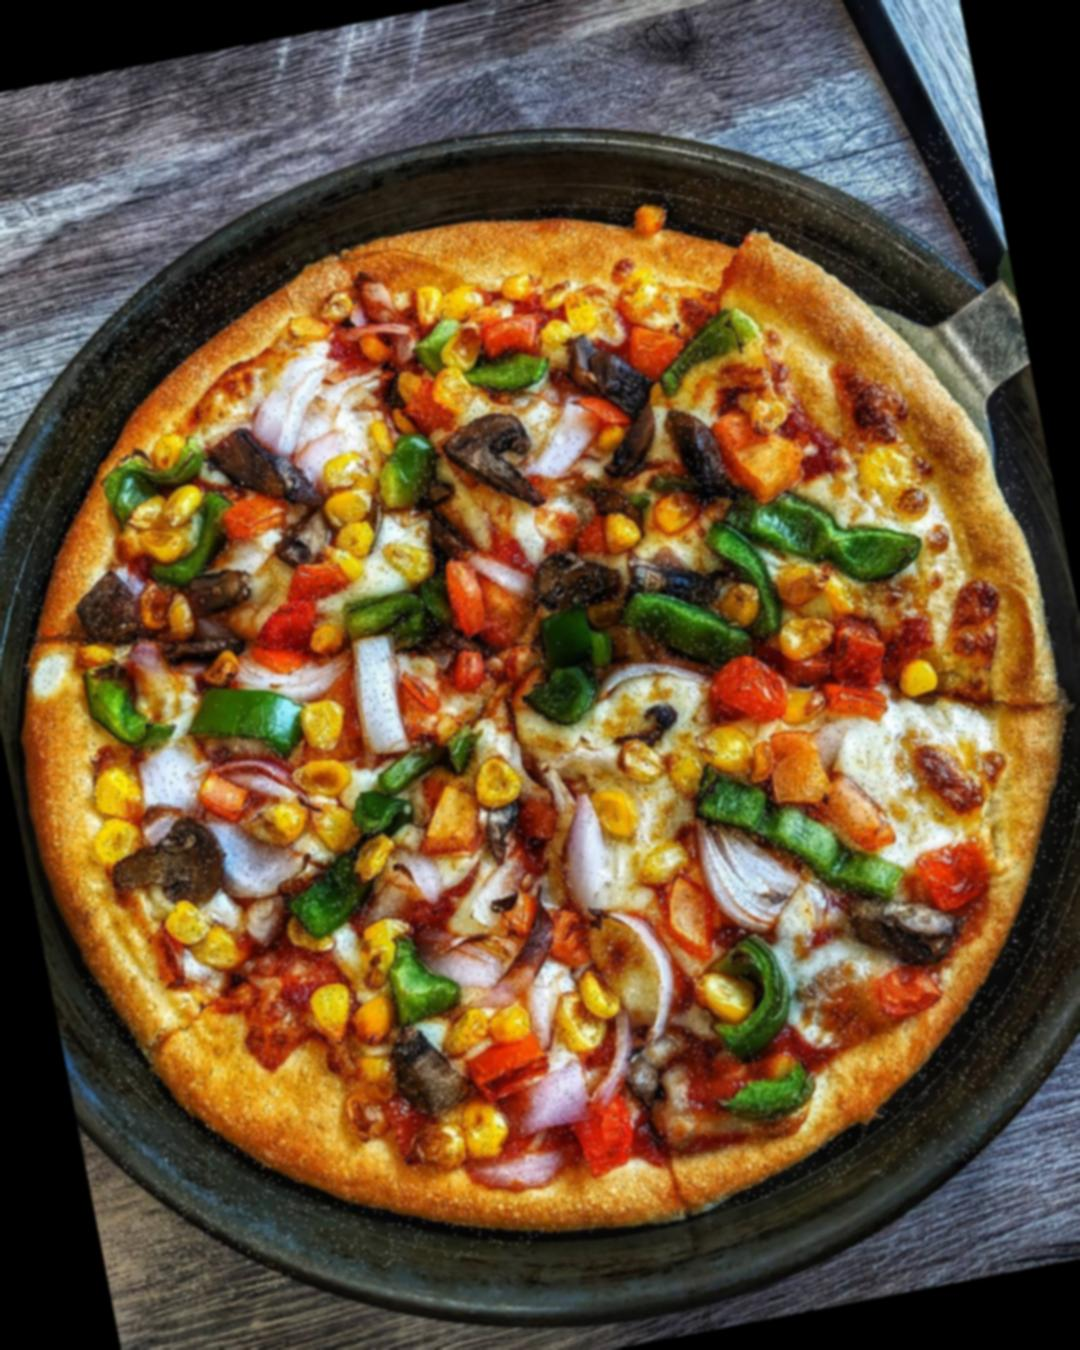Corn: (543, 964, 629, 1057), (769, 554, 849, 618), (442, 1001, 528, 1055), (291, 689, 354, 758), (456, 1094, 522, 1156), (132, 580, 190, 642), (190, 641, 256, 693), (590, 785, 647, 842), (471, 754, 527, 812), (126, 490, 204, 532), (292, 749, 352, 802), (612, 730, 667, 785), (694, 723, 754, 774), (91, 766, 141, 827), (303, 979, 355, 1035), (648, 744, 705, 795), (123, 517, 195, 557), (648, 482, 696, 539), (741, 384, 798, 432), (774, 671, 834, 716), (251, 799, 309, 844), (696, 968, 747, 1018), (347, 828, 398, 878), (778, 622, 838, 665), (315, 486, 382, 523), (356, 917, 407, 966), (855, 450, 910, 495), (415, 1120, 465, 1165), (190, 926, 242, 968), (435, 280, 486, 323), (158, 896, 202, 944), (592, 509, 642, 551), (312, 797, 358, 842), (432, 366, 479, 410), (321, 451, 367, 495), (896, 660, 942, 704), (631, 193, 673, 241), (532, 495, 576, 539), (712, 576, 758, 618), (636, 842, 685, 879), (91, 821, 136, 863), (563, 287, 600, 334), (355, 993, 396, 1034), (339, 520, 374, 554), (73, 642, 116, 668), (540, 324, 575, 349)
Mushroom: (444, 406, 573, 528), (100, 821, 242, 929), (851, 876, 966, 980), (566, 339, 658, 468), (165, 561, 263, 676), (654, 398, 744, 501), (382, 1022, 475, 1110), (53, 561, 139, 648), (527, 533, 618, 615), (204, 420, 296, 497)
Onion: (196, 742, 333, 901), (818, 685, 980, 819), (242, 349, 368, 475), (602, 895, 709, 1036), (702, 809, 809, 929), (422, 881, 537, 989), (344, 634, 411, 756), (555, 791, 620, 907), (517, 1047, 607, 1109)
Peppers: (700, 752, 896, 918), (712, 469, 927, 608), (97, 443, 227, 588), (274, 825, 408, 946), (408, 307, 537, 410), (647, 298, 770, 396), (622, 576, 739, 672), (534, 604, 629, 723), (175, 674, 299, 758), (695, 942, 790, 1050), (346, 739, 460, 827), (82, 658, 163, 756), (377, 947, 447, 1032), (730, 1054, 807, 1113)
Pizza: (0, 127, 1080, 1318)
Tomatoes: (900, 829, 998, 914), (465, 1032, 558, 1105), (565, 1094, 638, 1177), (702, 651, 780, 723), (436, 559, 503, 633), (828, 622, 895, 681), (285, 555, 355, 608), (227, 493, 296, 546), (253, 598, 320, 649)
